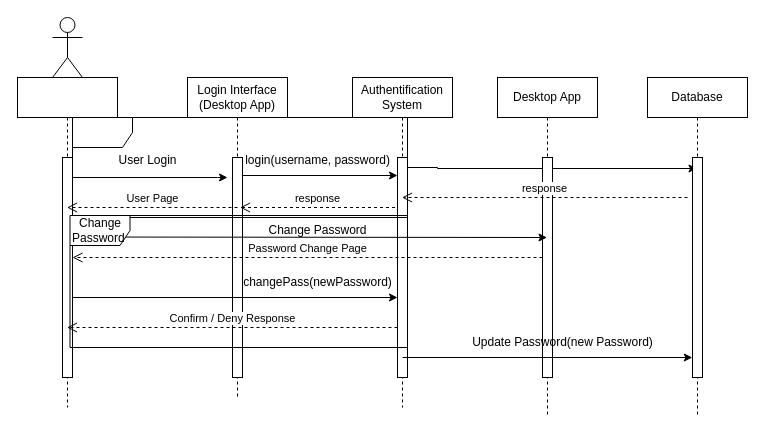
The diagram is 765 pixels wide and 435 high, and some of its shapes have lost their labels. The centre of each missing label's shape, as x and y in pixels:
"Login Loop" goes at pixel 240 167.
"User" goes at pixel 67 242.
